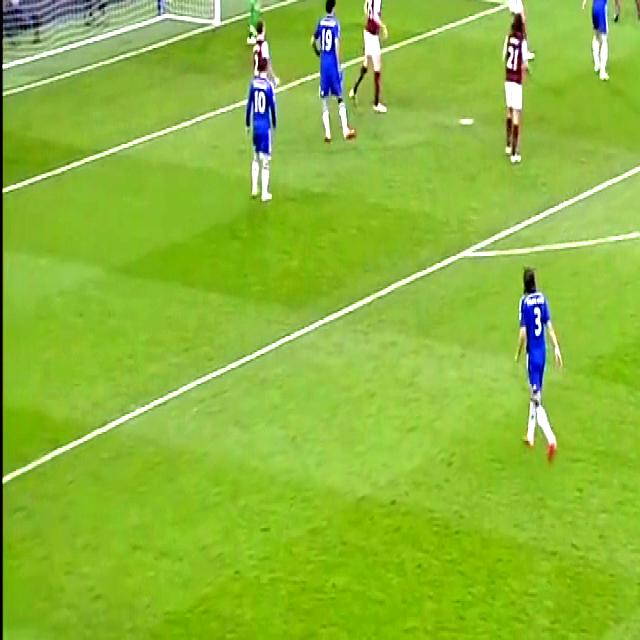goalkeeper: (238, 0, 272, 43)
soccer-player: (508, 244, 566, 466), (302, 0, 357, 155), (498, 0, 538, 178), (241, 46, 282, 216), (355, 0, 397, 123), (579, 0, 618, 85), (502, 0, 537, 60), (604, 0, 640, 37)
